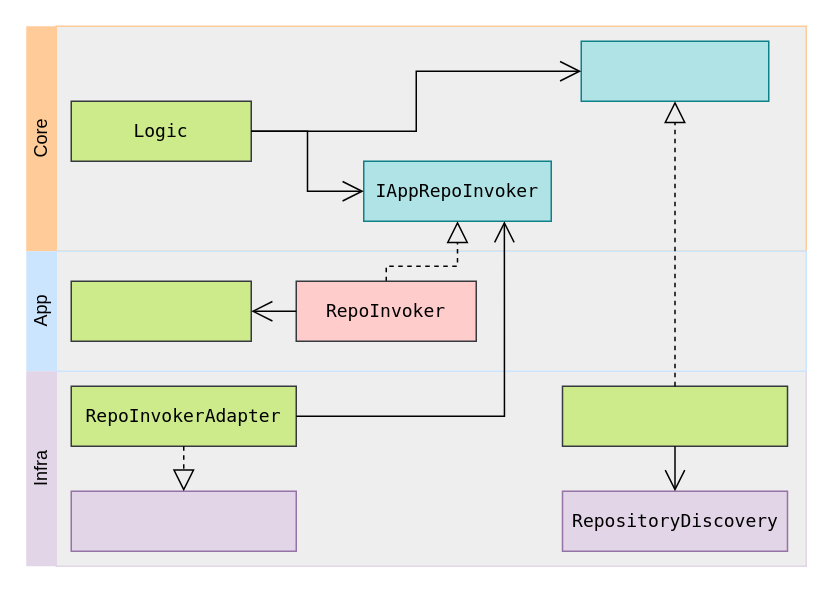
Some shapes in this 833 by 593 pixel diagram are drawn without their labels. The shapes that lost their labels are listed below. From the top down, each one's centre as x and y in pixels, then its label:
[674,70]: IAppRepoDiscovery
[160,310]: Service
[674,415]: RepoDiscoveryAdapter
[183,520]: IRepositoryInvoker
